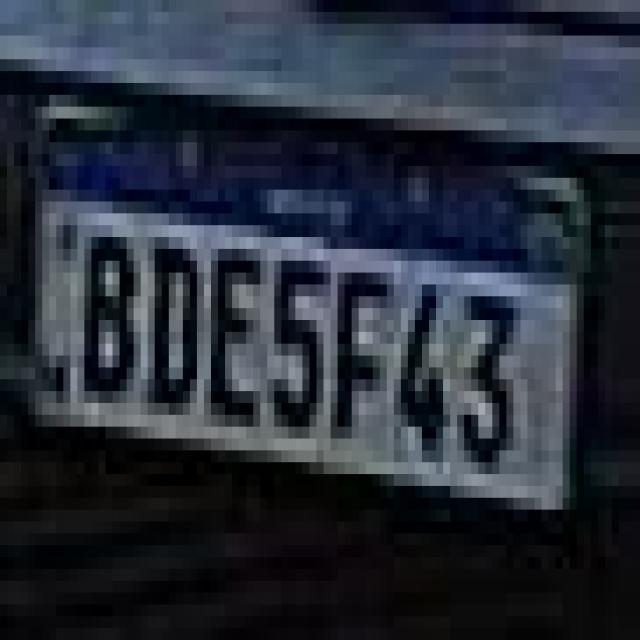3: (454, 277, 520, 473)
4: (391, 270, 456, 472)
5: (265, 244, 330, 439)
B: (80, 222, 142, 404)
D: (144, 235, 207, 417)
E: (206, 232, 270, 430)
F: (329, 258, 400, 454)
